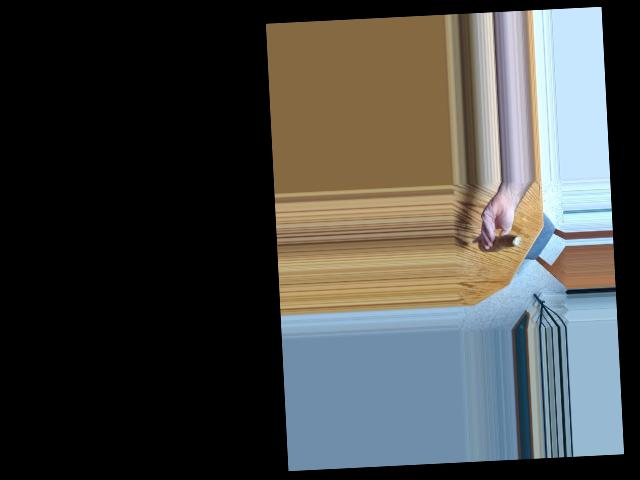sweet_potato: (483, 229, 520, 254)
